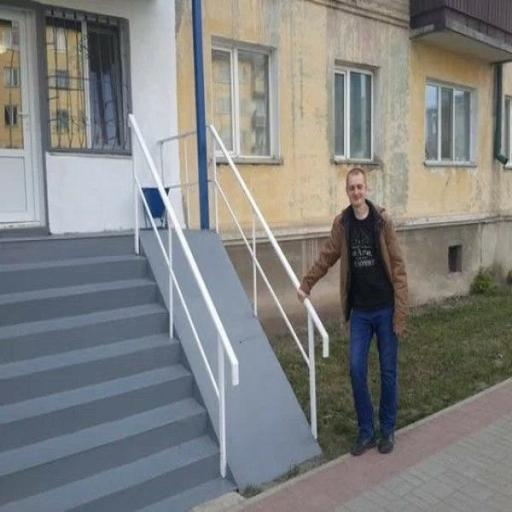corridor: (0, 7, 40, 228)
laptop: (297, 168, 407, 455)
pole: (186, 230, 320, 489)
shelf: (225, 379, 511, 511)
sofa: (0, 237, 233, 511)
